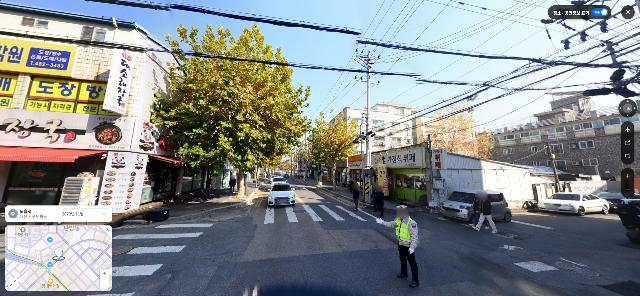ginkgo: (423, 103, 495, 160)
other: (148, 21, 312, 199), (303, 109, 360, 191)
